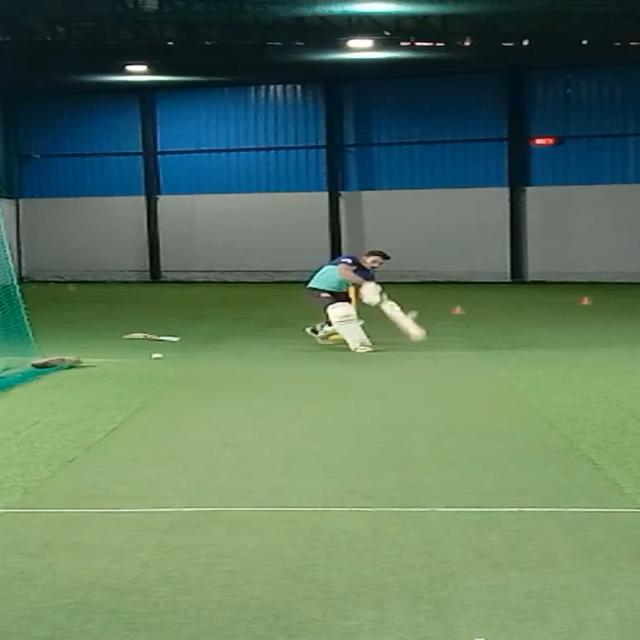ball: (149, 352, 165, 361), (405, 312, 419, 321)
